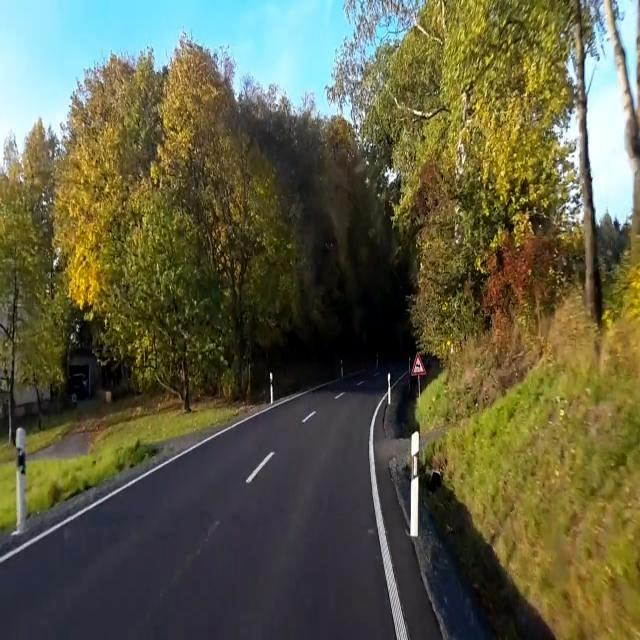lane: (368, 395, 409, 640), (279, 382, 334, 404), (245, 451, 276, 483), (350, 459, 364, 492), (351, 560, 375, 572)
road: (0, 374, 395, 639)
